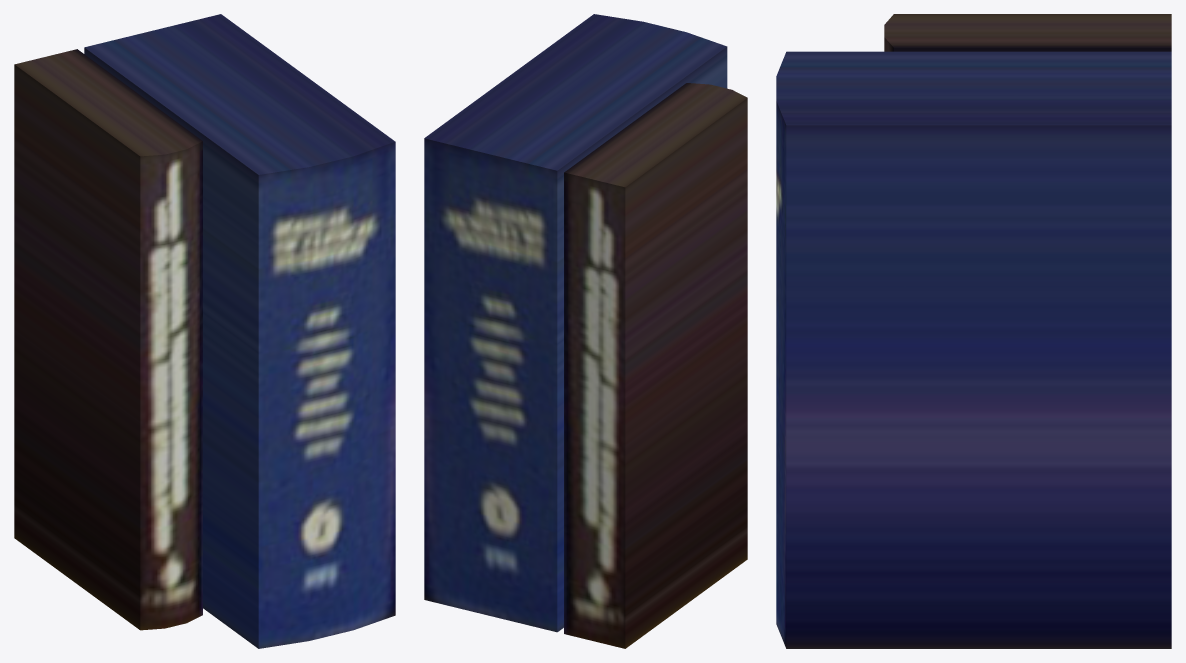
Rendered from Books 4.FBX.
The picture shows the model from 3 angles, left to right: view 1: azimuth 30°, elevation 25°; view 2: azimuth 150°, elevation 25°; view 3: azimuth 270°, elevation 25°; orthographic projection. The views are drawn at different scales.
Visible parts, largest first — view 1: Books1; view 2: Books1; view 3: Books1.
Part boxes in pixels (x1,y1,x2,y2): Books1: (14, 14, 395, 648); Books1: (424, 14, 747, 648); Books1: (776, 14, 1171, 648).
Bounding box in the file's own units: 12.44 × 18.67 × 27.27.
